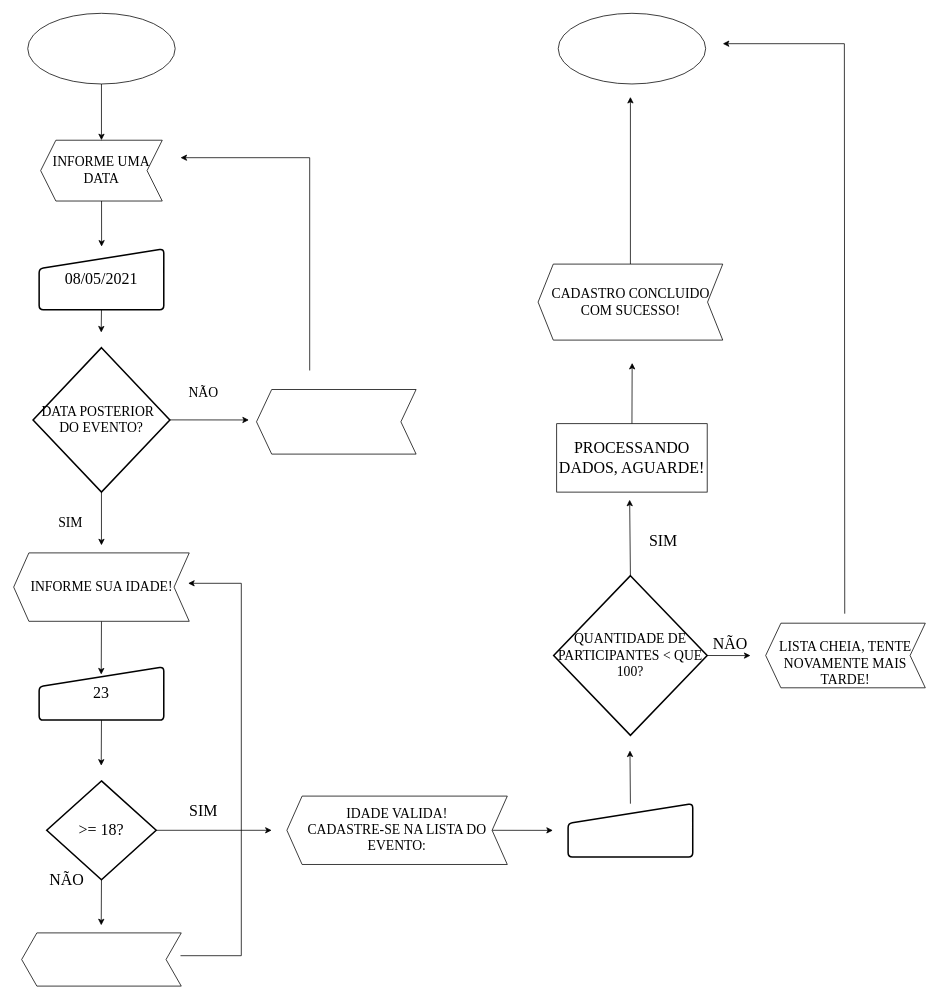
This 939x999 diagram has some shape labels left out. Here are the shapes that lost their labels. From the top down, the centre of each, then its label:
At point (101, 48): "INICIO".
At point (631, 48): "FIM".
At point (336, 421): "DATA INDISPONIVEL! TENTE UMA NOVA DATA!".
At point (630, 830): "EDUARDA".
At point (101, 959): "IDADE INVALIDA! TENTE NOVAMENTE!".
